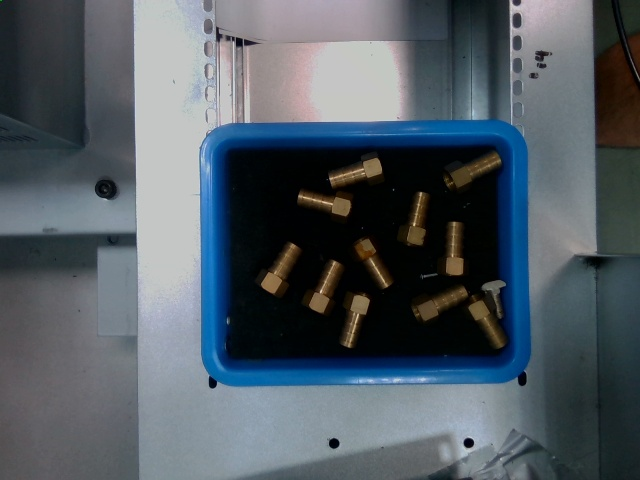omron: (442, 150, 502, 190), (258, 243, 303, 296), (307, 257, 346, 314), (470, 291, 506, 351), (409, 285, 469, 320), (400, 187, 433, 247), (327, 156, 384, 190), (338, 292, 370, 350), (355, 238, 391, 289), (293, 191, 352, 219), (441, 220, 466, 277)
